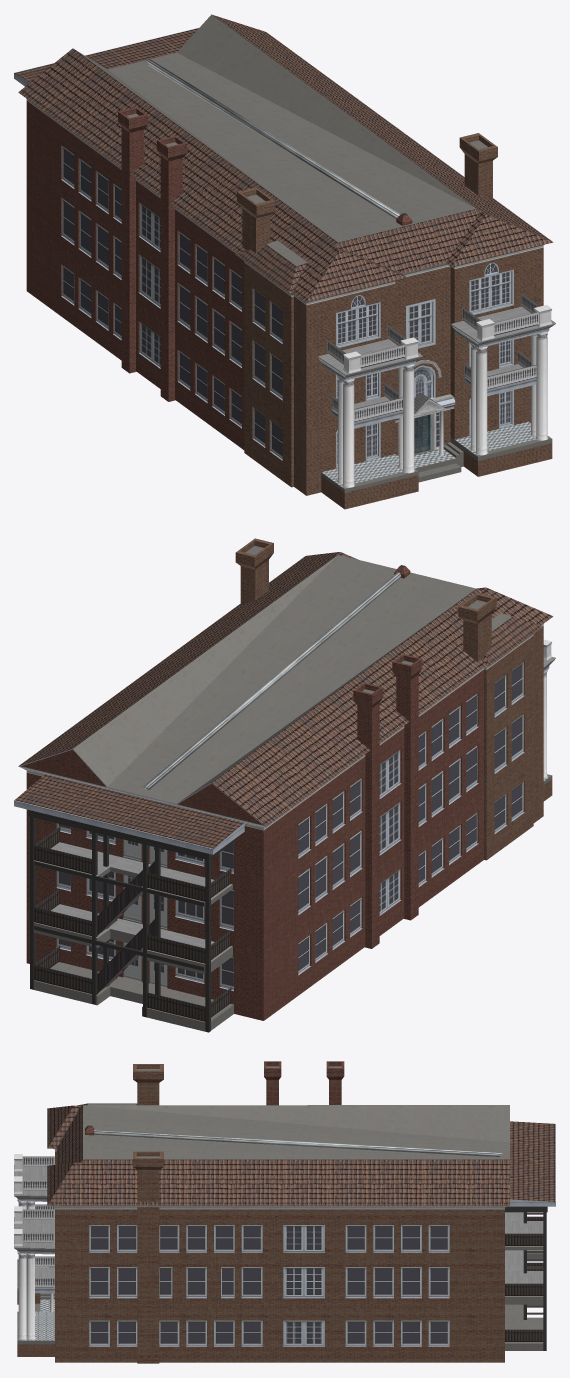
File: 2512monument.obj
3 renders of one model, top to bottom at view 1: azimuth 30°, elevation 25°; view 2: azimuth 150°, elevation 25°; view 3: azimuth 270°, elevation 25°, orthographic. The views are drawn at different scales.
Visible parts, largest first — view 1: Cube; view 2: Cube; view 3: Cube.
Part boxes in pixels (x1,y1,x2,y2): Cube: (14, 14, 555, 509); Cube: (14, 538, 555, 1032); Cube: (14, 1061, 555, 1363).
Size of the model in its own units: 1378 by 1339 by 3200.
